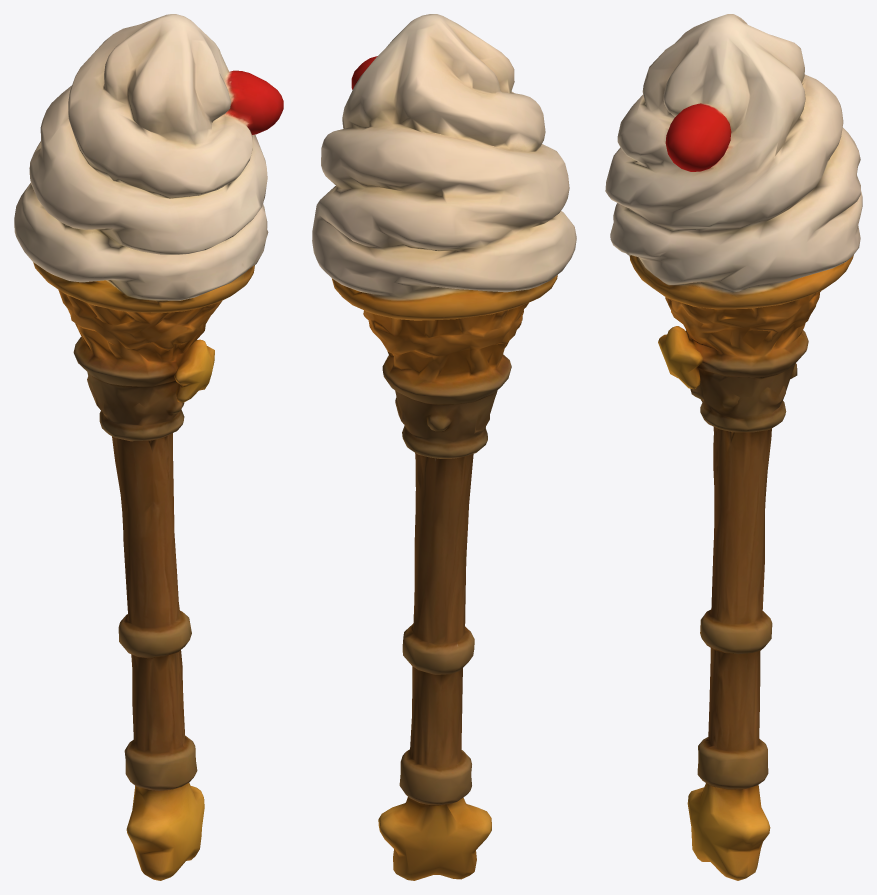
The model's file is softserve_staff.glb.
3 views of the same model, side by side, from view 1: azimuth 30°, elevation 25°; view 2: azimuth 150°, elevation 25°; view 3: azimuth 270°, elevation 25° (orthographic).
Visible parts, largest first — view 1: tripo_node_082e6703-fb48-44ce-a4fe-dd407b23a073; view 2: tripo_node_082e6703-fb48-44ce-a4fe-dd407b23a073; view 3: tripo_node_082e6703-fb48-44ce-a4fe-dd407b23a073.
Boxes of the visible parts, x1=… form: tripo_node_082e6703-fb48-44ce-a4fe-dd407b23a073: x1=14, y1=14, x2=283, y2=880; tripo_node_082e6703-fb48-44ce-a4fe-dd407b23a073: x1=312, y1=14, x2=576, y2=880; tripo_node_082e6703-fb48-44ce-a4fe-dd407b23a073: x1=605, y1=14, x2=862, y2=880.
Bounding box in the file's own units: 0.2754 × 1 × 0.2732.
Materials: 1 (1 with a texture image).
